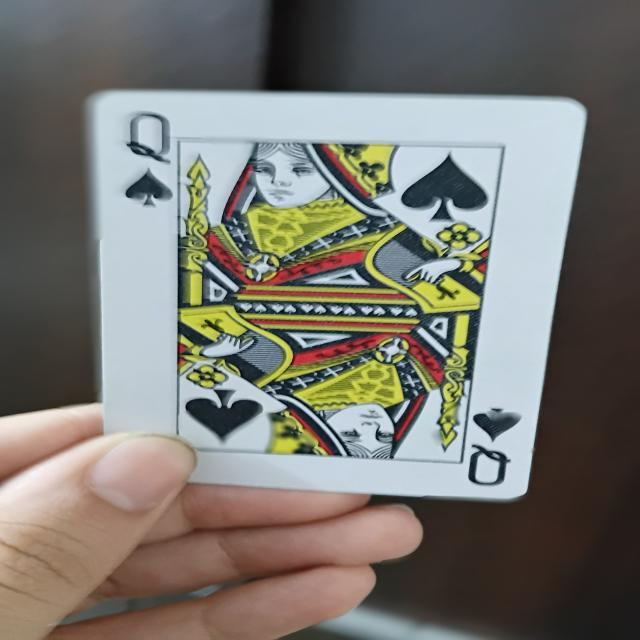QS: (98, 91, 558, 500)
